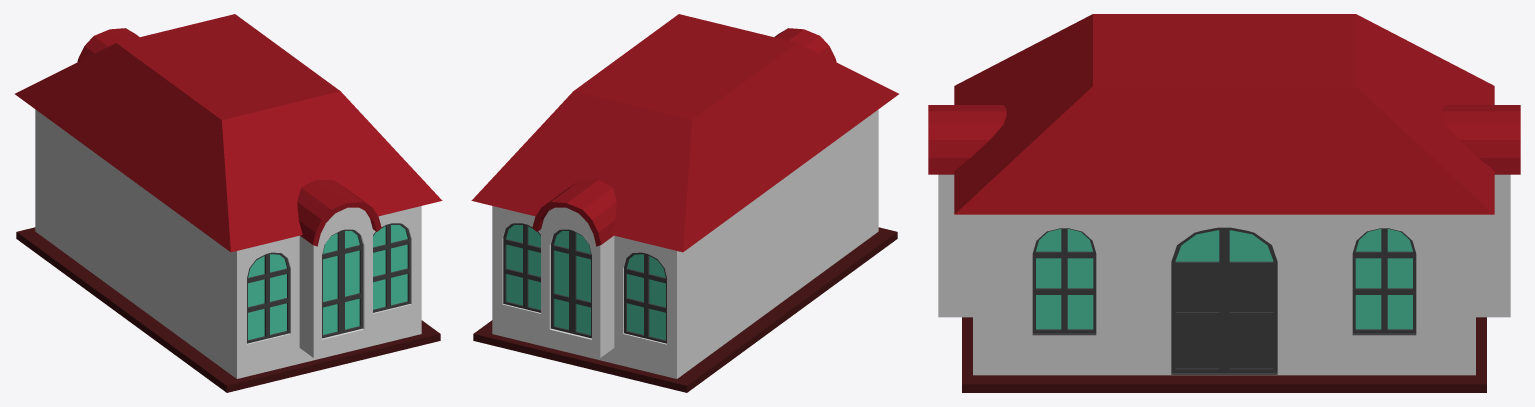
Rendered from house.glb.
The picture shows the model from 3 angles, left to right: view 1: azimuth 30°, elevation 25°; view 2: azimuth 150°, elevation 25°; view 3: azimuth 270°, elevation 25°; orthographic projection. The views are drawn at different scales.
Visible parts, largest first — view 1: Cube.046; view 2: Cube.046; view 3: Cube.046.
Boxes of the visible parts, box(x1,y1,x2,y2) form: Cube.046: box(15, 14, 442, 392); Cube.046: box(471, 14, 898, 392); Cube.046: box(928, 14, 1520, 392).
Bounding box in the file's own units: 1.99 × 1.98 × 3.83.
